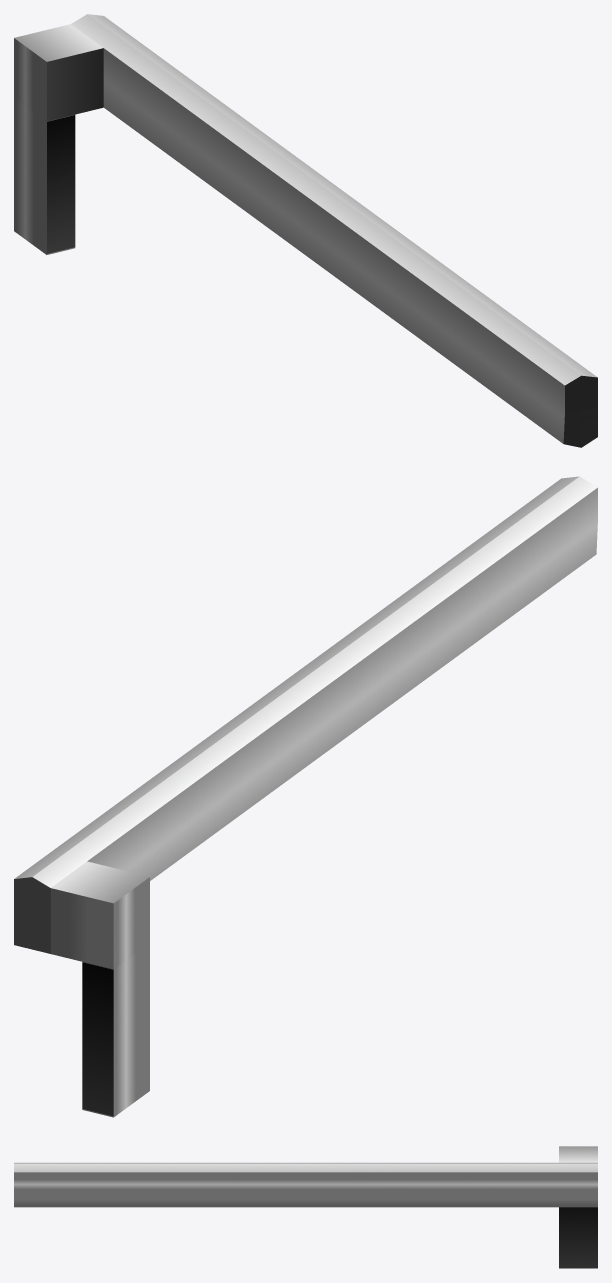
Rendered from fence_01.glb.
3 renders of one model, top to bottom at view 1: azimuth 30°, elevation 25°; view 2: azimuth 150°, elevation 25°; view 3: azimuth 270°, elevation 25°, orthographic. The views are drawn at different scales.
Parts seen in each view (by area): view 1: Cube; view 2: Cube; view 3: Cube.
Boxes of the visible parts, bbox=[...] form: Cube: bbox=[14, 14, 597, 447]; Cube: bbox=[14, 476, 597, 1117]; Cube: bbox=[14, 1146, 597, 1268].
Bounding box in the file's own units: 3.16 × 6.69 × 30.07.
1 material, 1 textured.
